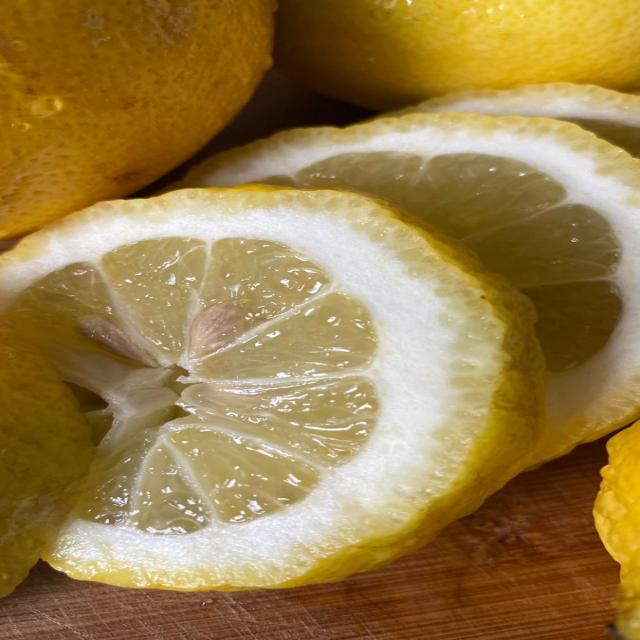lemon: (0, 187, 542, 589), (180, 114, 639, 461), (0, 0, 274, 238), (275, 0, 639, 109), (0, 319, 92, 596), (390, 83, 639, 156), (594, 423, 639, 639)
